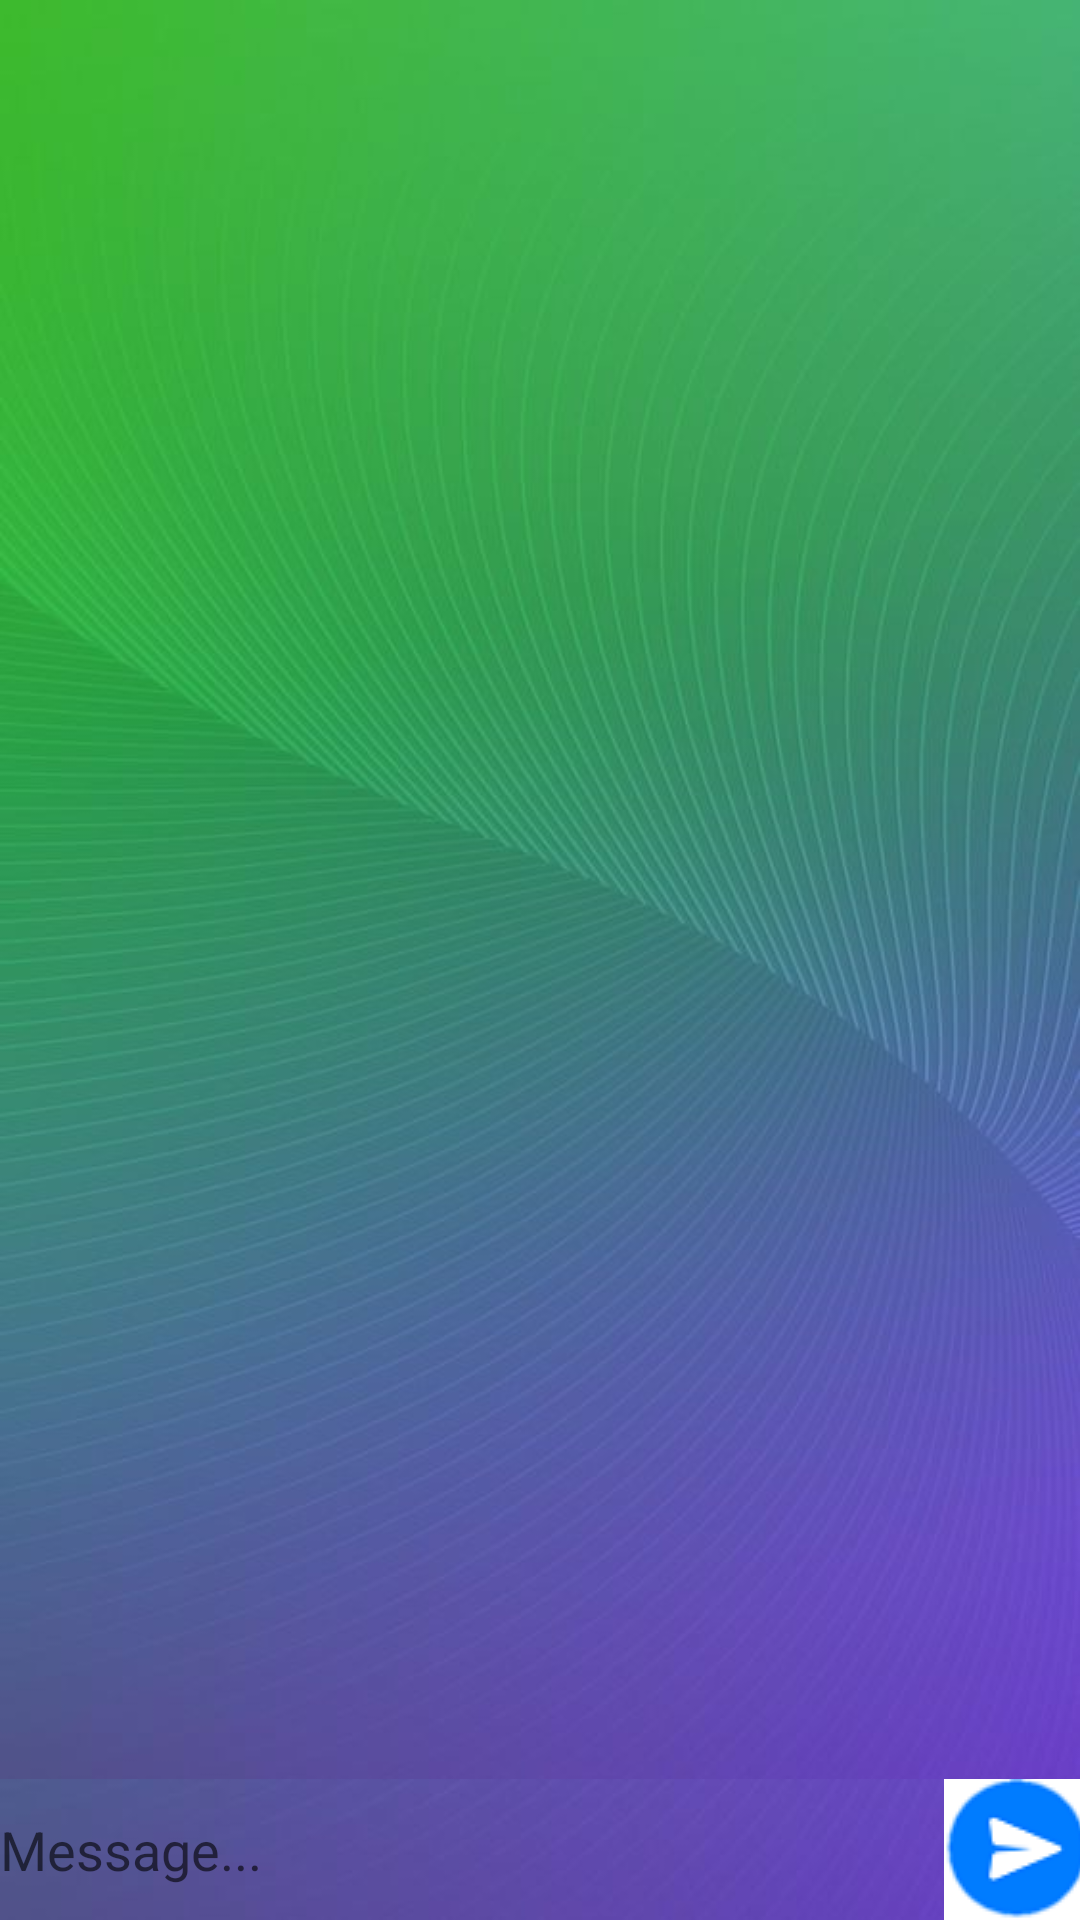

Locate icon controls on the screen. Image size 1080w x 1920h, boxes as detection(x1, y1, x2, y2).
send: detection(944, 1779, 1080, 1920)
